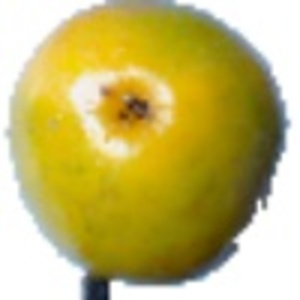maracujá: (1, 1, 293, 300)
